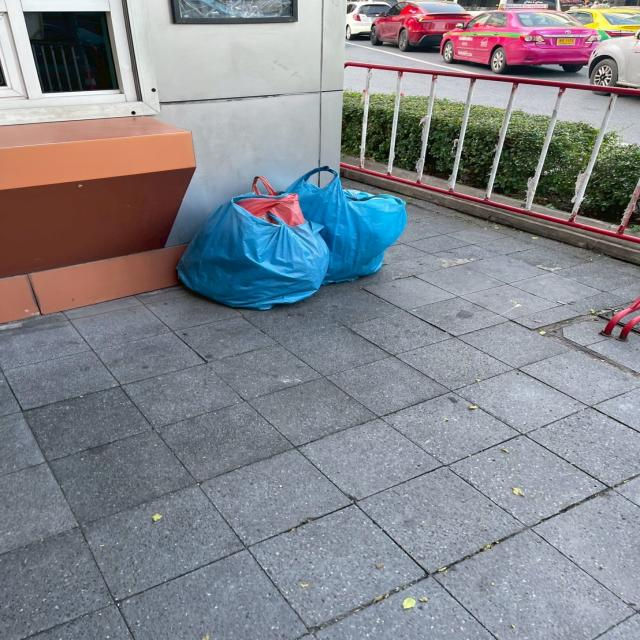plastic bag: (180, 187, 329, 310)
